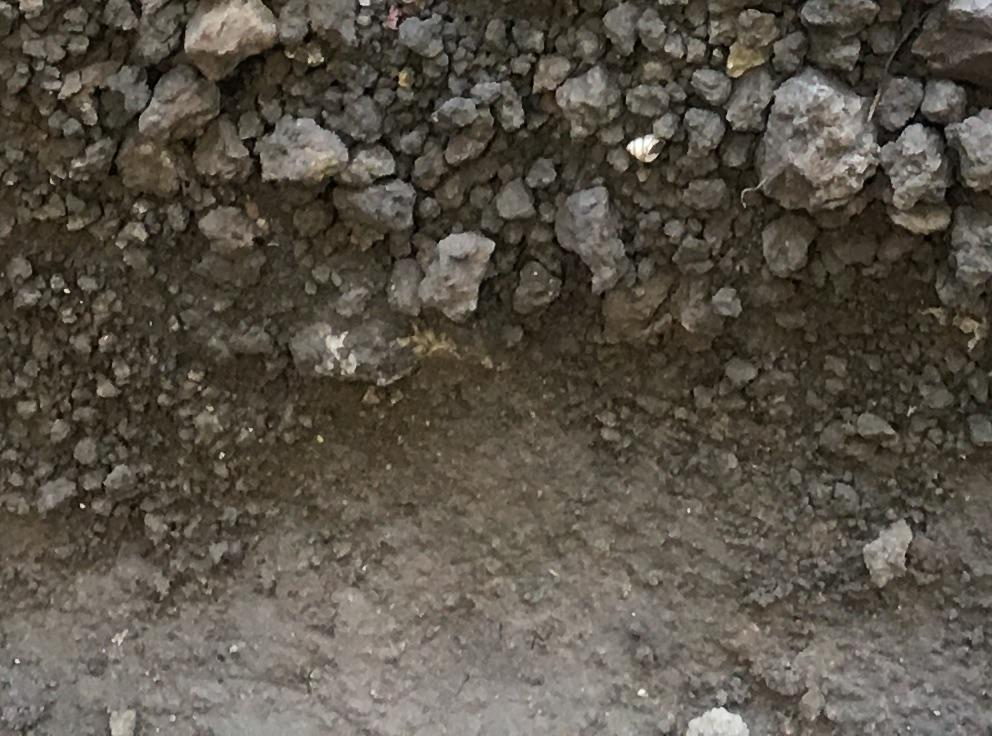block: (760, 67, 872, 215), (176, 1, 283, 83), (879, 122, 948, 224), (254, 114, 345, 184)
